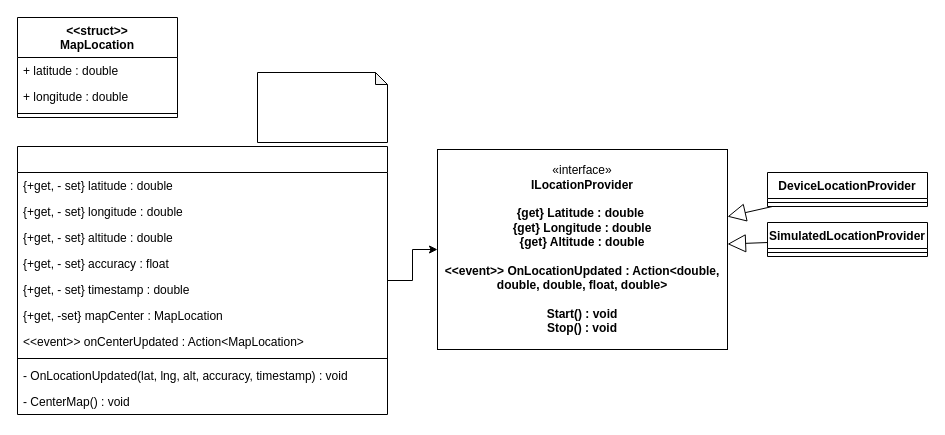
The diagram is 945 pixels wide and 435 high, and some of its shapes have lost their labels. Each missing label, with the box of its shape:
GPSLocationService: (16, 146, 388, 414)
현재 위치 기반으로 맵의 중심을 갱신: (256, 72, 388, 142)
